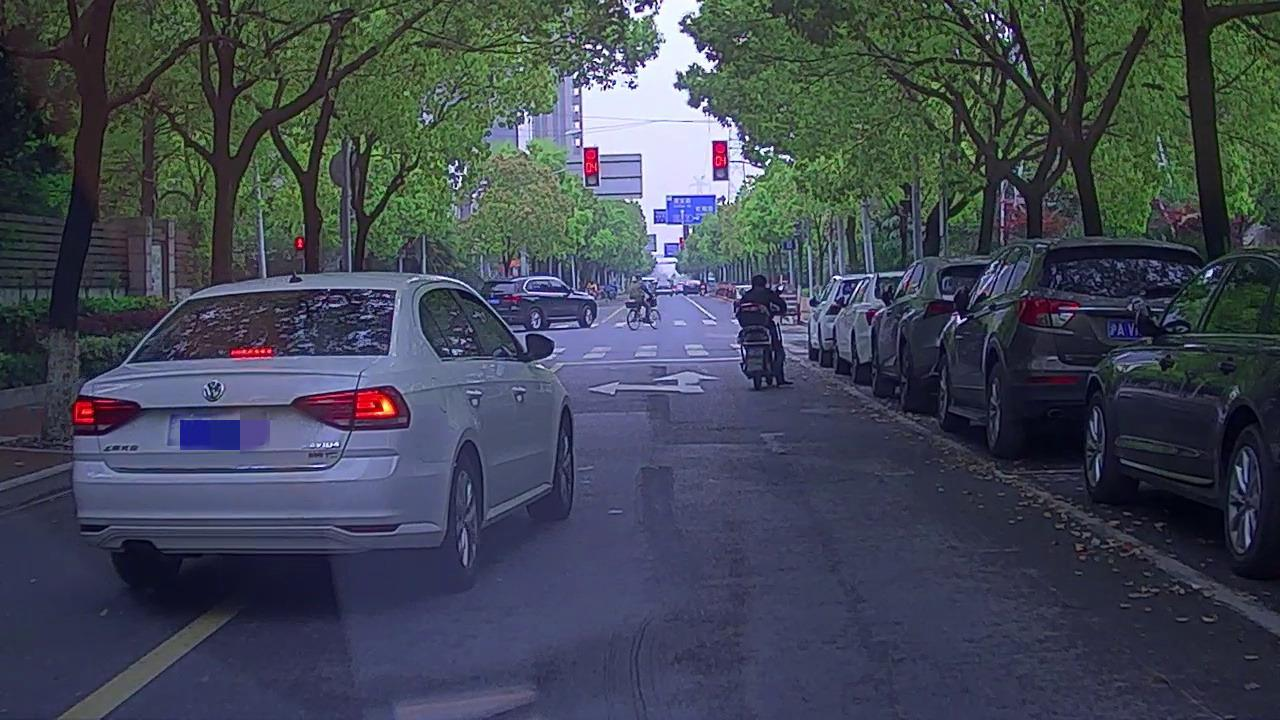traffic_light: (584, 149, 599, 187), (714, 141, 727, 180)
